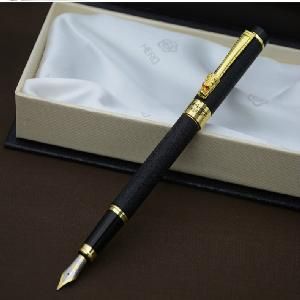pen: (57, 23, 270, 293)
